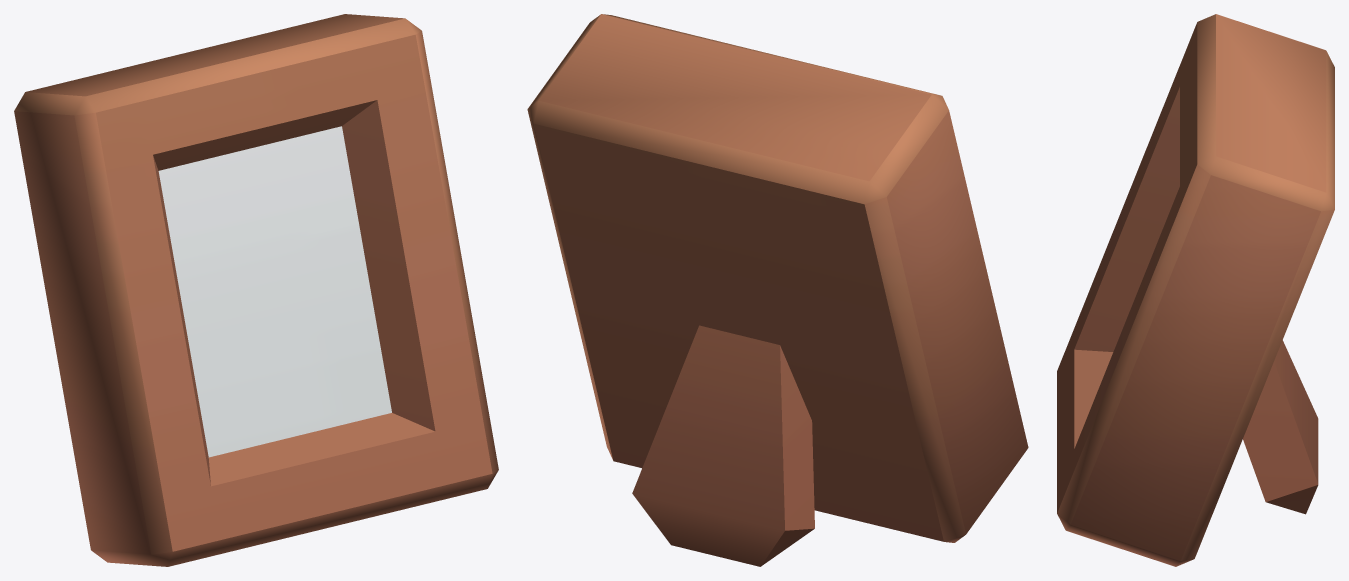
File: picture-frame-standing.glb
The picture shows the model from 3 angles, left to right: view 1: azimuth 30°, elevation 25°; view 2: azimuth 150°, elevation 25°; view 3: azimuth 270°, elevation 25°; orthographic projection. The views are drawn at different scales.
Parts seen in each view (by area): view 1: pictureframe_standing_A; view 2: pictureframe_standing_A; view 3: pictureframe_standing_A.
Part boxes in pixels (<box>): pictureframe_standing_A: <box>14,14,498,566</box>; pictureframe_standing_A: <box>527,14,1028,566</box>; pictureframe_standing_A: <box>1057,14,1334,566</box>.
Size of the model in its own units: 0.2021 by 0.25 by 0.1534.
1 material, 1 textured.
